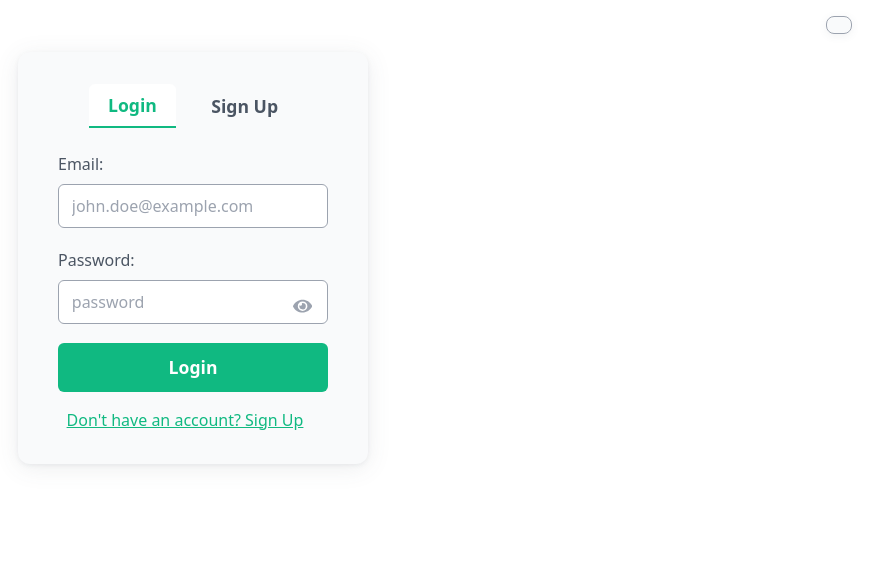
App Component › toggles to sign up form
Click the button "Sign Up" at (245, 106), box 192,84 -> 297,128
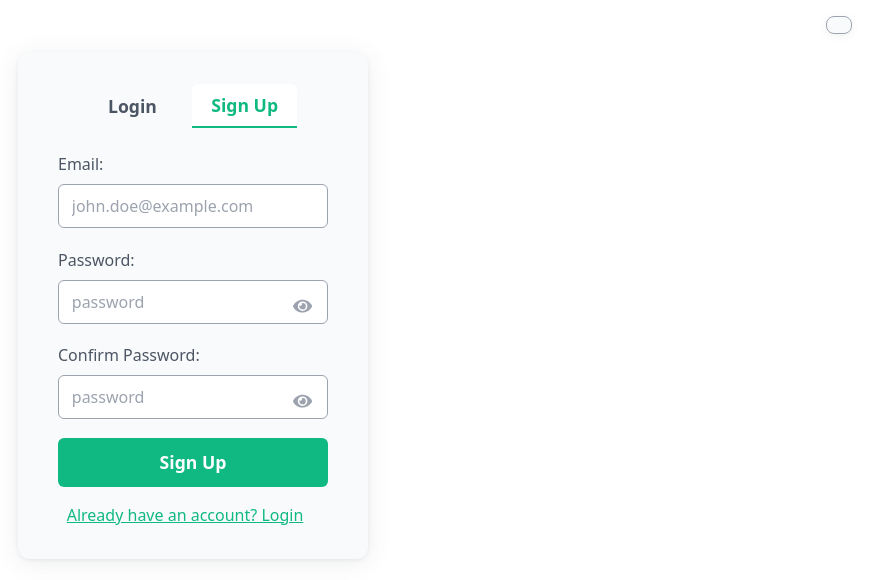
expect the field labelled "Email:" is shown: met, box 58,184 -> 328,228
expect the password field labelled "Confirm Password:" is shown: met, box 58,375 -> 328,419
expect the button "Sign Up" below "Confirm Password:" is shown: met, box 58,438 -> 328,487
